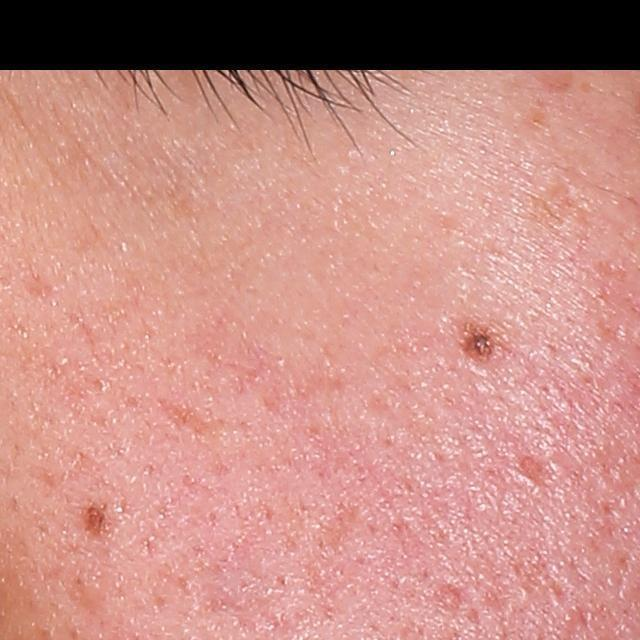atrophic_scar: (516, 454, 548, 490)
melasma: (522, 180, 581, 242)
nevus: (457, 317, 501, 366), (83, 501, 108, 539)
